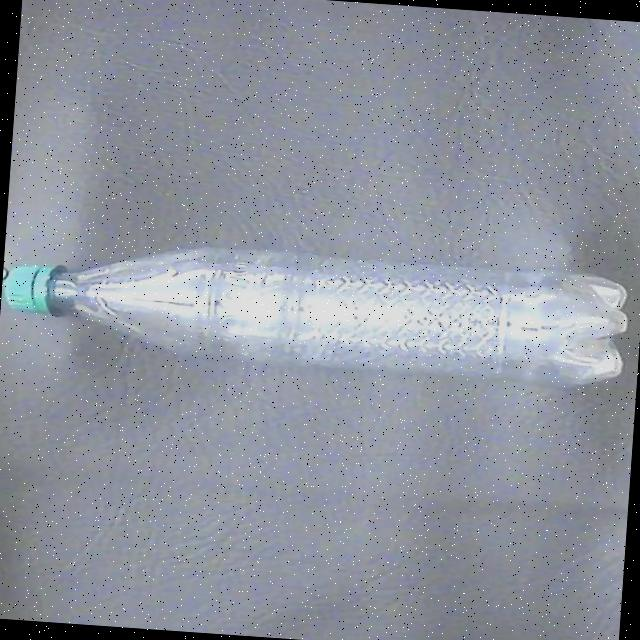bottle: (0, 228, 636, 397)
cap: (1, 260, 52, 312)
